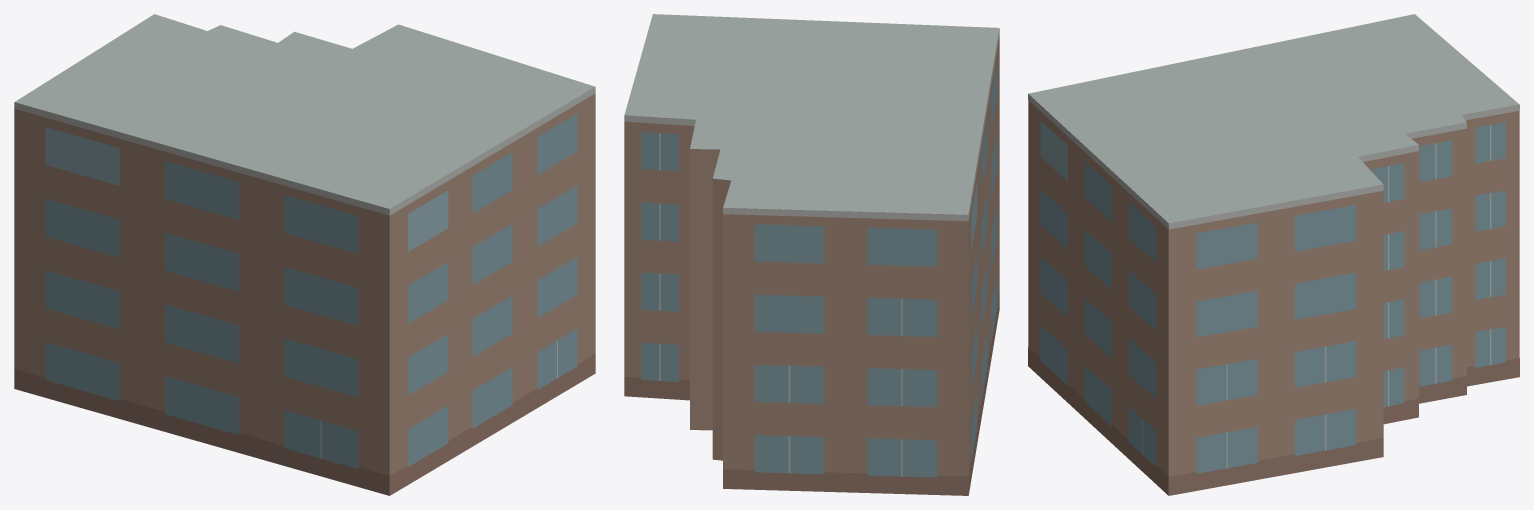
File: survey-upis-32911954.glb
The picture shows the model from 3 angles, left to right: view 1: azimuth 30°, elevation 25°; view 2: azimuth 150°, elevation 25°; view 3: azimuth 270°, elevation 25°; orthographic projection. The views are drawn at different scales.
Visible parts, largest first — view 1: survey-upis-32911954.tmp; view 2: survey-upis-32911954.tmp; view 3: survey-upis-32911954.tmp.
Part boxes in pixels (x1,y1,x2,y2): survey-upis-32911954.tmp: (14, 14, 595, 495); survey-upis-32911954.tmp: (624, 14, 999, 495); survey-upis-32911954.tmp: (1028, 14, 1519, 495).
Size of the model in its own units: 17.64 by 10.7 by 17.5.
